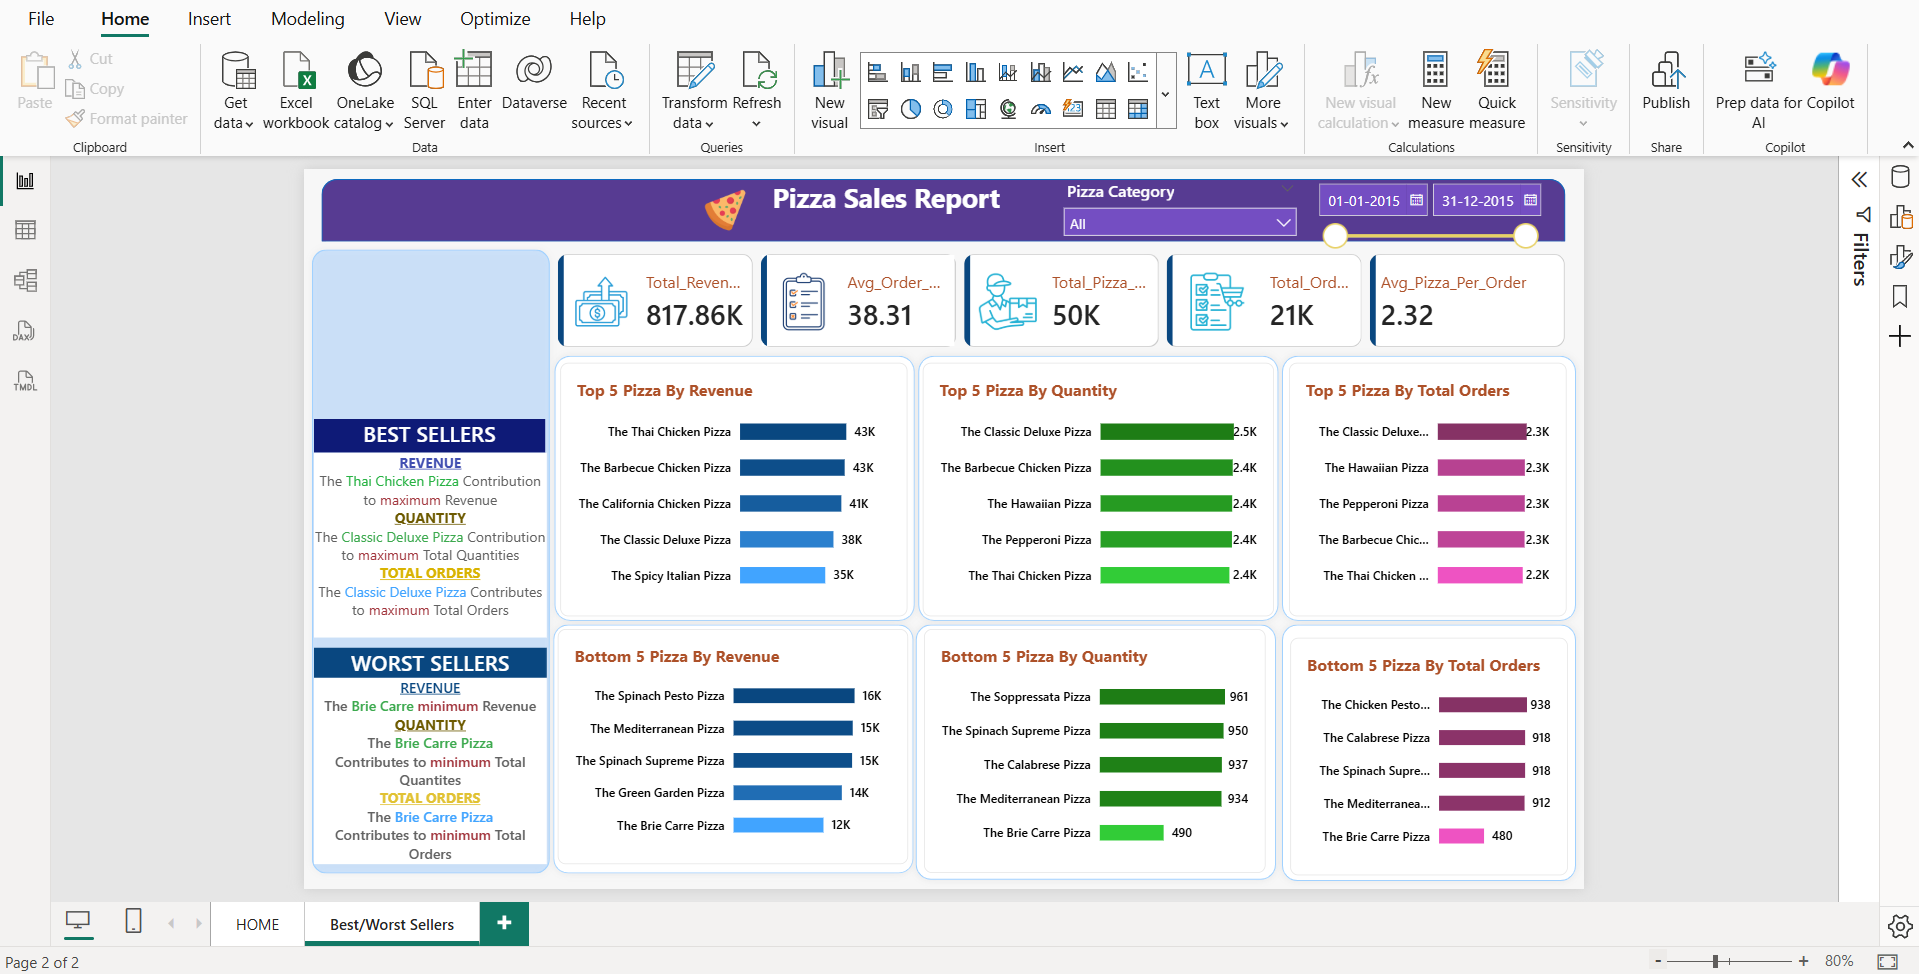

Layout of this report page (visuals, bound fields, positions):
{"tool":"powerbi","page":{"name":"Best/Worst Sellers","canvas":[1280,720],"ordinal":1},"visuals":[{"type":"cardVisual","fields":{"Data":["pizza_sales 1.Total_Revenue","pizza_sales 1.Avg_Order_Value","pizza_sales 1.Total_Pizza_Sold","pizza_sales 1.Total_Orders","pizza_sales 1.Avg_Pizza_Per_Order"]},"box":[253.8,85,1008.8,93.8],"z":0},{"type":"shape","box":[18.1,9.7,1243.8,62.7],"z":1000},{"type":"textbox","box":[18.1,9.7,1129.2,62.7],"z":2000},{"type":"textbox","box":[485,41.2,343.8,31.2],"z":3000},{"type":"image","box":[340,20,162.5,42.5],"z":4000},{"type":"shape","box":[242.5,178.8,376.2,281.2],"z":5000},{"type":"shape","box":[0,72.5,253.8,640],"z":6000},{"type":"textbox","box":[10,250,231.2,33.8],"z":7000},{"type":"textbox","box":[10,283.8,232.5,185],"z":8000},{"type":"textbox","box":[10,478.8,232.5,30],"z":9000},{"type":"textbox","box":[10,508.8,232.5,186.2],"z":10000},{"type":"slicer","fields":{"Values":["pizza_sales 1.pizza_category"]},"box":[755.2,9.7,242.5,62],"z":11000},{"type":"slicer","fields":{"Values":["pizza_sales 1.order_date"]},"box":[1007.4,9.7,230,70],"z":12000},{"type":"shape","box":[241.2,447.5,376.2,265],"z":13000},{"type":"barChart","title":"Top 5 Pizza By Revenue","fields":{"Category":["pizza_sales 1.pizza_name"],"Y":["pizza_sales 1.Total_Revenue"]},"box":[256.2,193.8,347.5,253.8],"z":14000},{"type":"barChart","title":"Bottom 5 Pizza By Revenue","fields":{"Category":["pizza_sales 1.pizza_name"],"Y":["pizza_sales 1.Total_Revenue"]},"box":[253.8,460,350,235],"z":15000},{"type":"shape","box":[606.2,178.8,376.2,281.2],"z":16000},{"type":"shape","box":[970,178.8,310,281.2],"z":17000},{"type":"barChart","title":"Top 5 Pizza By Quantity","fields":{"Category":["pizza_sales 1.pizza_name"],"Y":["pizza_sales 1.Total_Pizza_Sold"]},"box":[618.8,193.8,351.2,253.8],"z":18000},{"type":"shape","box":[603.8,447.5,376.2,271.2],"z":19000},{"type":"barChart","title":"Bottom 5 Pizza By Quantity","fields":{"Category":["pizza_sales 1.pizza_name"],"Y":["pizza_sales 1.Total_Pizza_Sold"]},"box":[620,460,341.2,243.8],"z":20000},{"type":"barChart","title":"Top 5 Pizza By Total Orders","fields":{"Category":["pizza_sales 1.pizza_name"],"Y":["pizza_sales 1.Total_Orders"]},"box":[985,193.8,277.5,253.8],"z":21000},{"type":"shape","box":[970,447.5,310,272.5],"z":22000},{"type":"barChart","title":"Bottom 5 Pizza By Total Orders","fields":{"Category":["pizza_sales 1.pizza_name"],"Y":["pizza_sales 1.Total_Orders"]},"box":[986.2,468.8,277.5,237.5],"z":23000}]}

Visuals, with their boxes on the page's 1280x720 design canvas (x1, y1, x2, y2). These are canvas units, not pixel positions in the 1919x974 screenshot, which may show the page scaled, cropped or inside an application window:
cardVisual - pizza_sales 1.Total_Revenue x pizza_sales 1.Avg_Order_Value: locate(254, 85, 1263, 179)
shape: locate(18, 10, 1262, 72)
textbox: locate(18, 10, 1147, 72)
textbox: locate(485, 41, 829, 72)
image: locate(340, 20, 502, 62)
shape: locate(242, 179, 619, 460)
shape: locate(0, 72, 254, 712)
textbox: locate(10, 250, 241, 284)
textbox: locate(10, 284, 242, 469)
textbox: locate(10, 479, 242, 509)
textbox: locate(10, 509, 242, 695)
slicer - pizza_sales 1.pizza_category: locate(755, 10, 998, 72)
slicer - pizza_sales 1.order_date: locate(1007, 10, 1237, 80)
shape: locate(241, 448, 617, 712)
"Top 5 Pizza By Revenue" barChart: locate(256, 194, 604, 448)
"Bottom 5 Pizza By Revenue" barChart: locate(254, 460, 604, 695)
shape: locate(606, 179, 982, 460)
shape: locate(970, 179, 1280, 460)
"Top 5 Pizza By Quantity" barChart: locate(619, 194, 970, 448)
shape: locate(604, 448, 980, 719)
"Bottom 5 Pizza By Quantity" barChart: locate(620, 460, 961, 704)
"Top 5 Pizza By Total Orders" barChart: locate(985, 194, 1262, 448)
shape: locate(970, 448, 1280, 720)
"Bottom 5 Pizza By Total Orders" barChart: locate(986, 469, 1264, 706)
